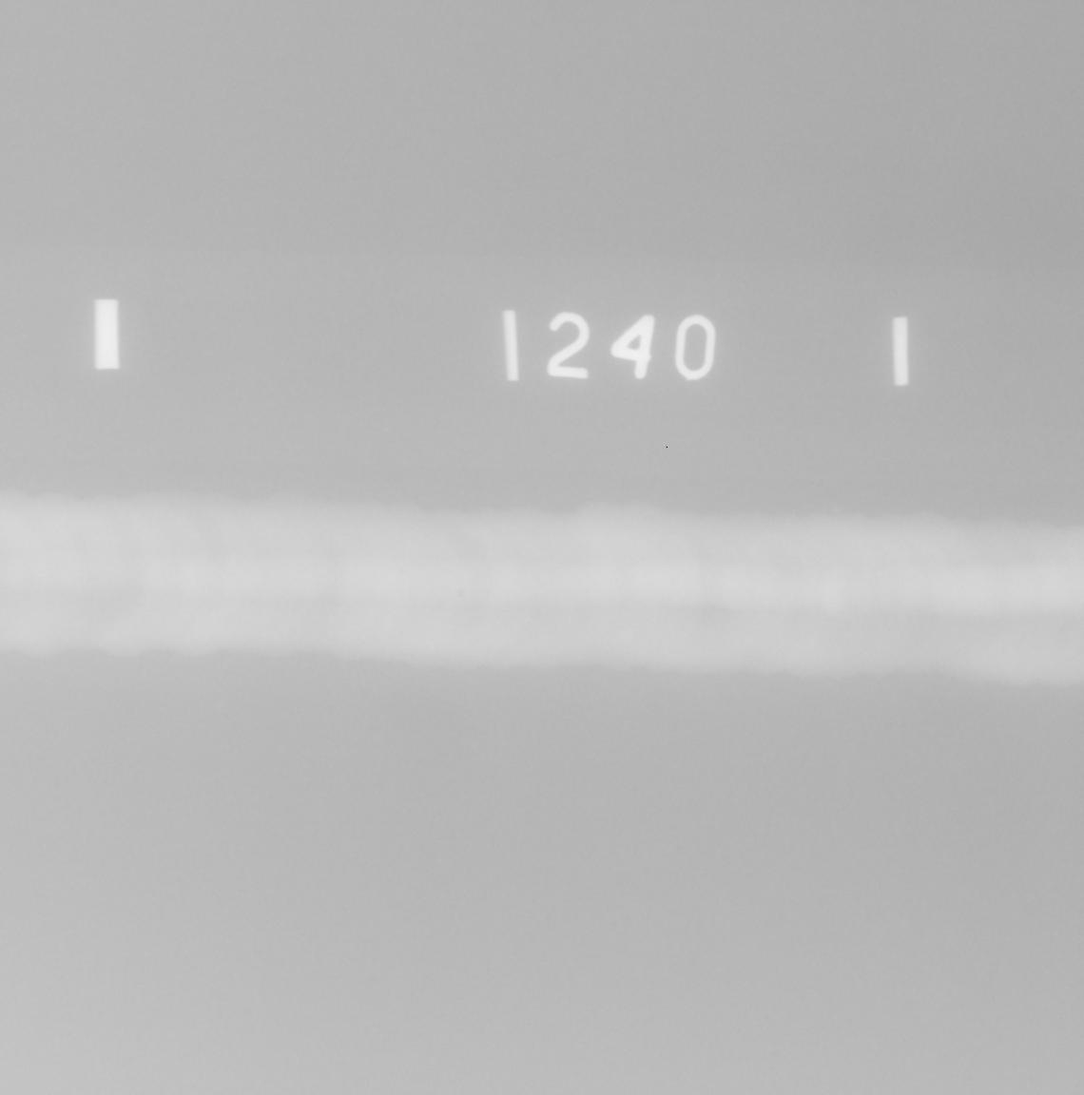Pore/Porosity: (458, 590, 466, 598), (1060, 628, 1065, 633), (401, 569, 404, 573)
